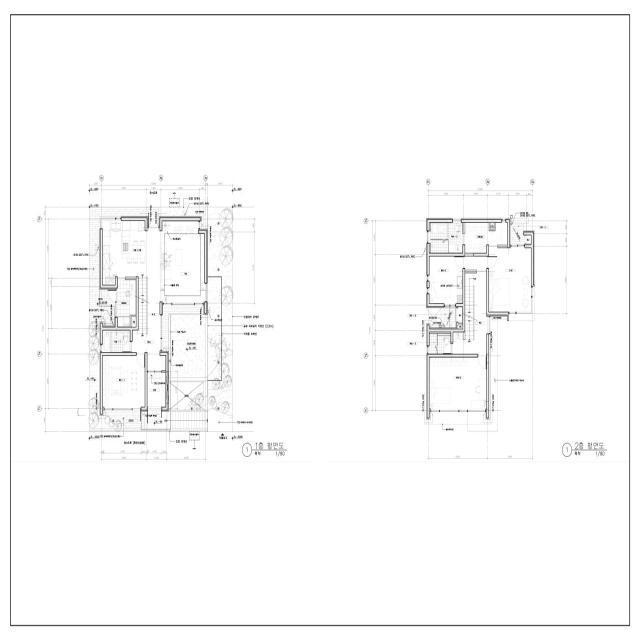space_bedroom: (429, 357, 486, 410), (489, 248, 531, 312), (103, 356, 145, 408), (465, 256, 486, 269)
space_dressroom: (465, 223, 507, 253)
space_front: (147, 372, 166, 407)
space_kitchen: (103, 221, 147, 285), (429, 256, 463, 303)
space_living_room: (133, 221, 205, 371)
space_multipurpose_space: (118, 280, 136, 327)
space_other: (463, 273, 486, 354), (457, 307, 463, 323), (525, 235, 531, 245), (131, 317, 136, 327), (490, 223, 494, 229), (458, 325, 463, 329)
space_staircase: (132, 276, 148, 334), (167, 411, 208, 429), (465, 285, 474, 339)
space_toilet: (430, 223, 463, 253), (103, 330, 130, 352), (429, 333, 451, 354), (453, 332, 463, 354)
